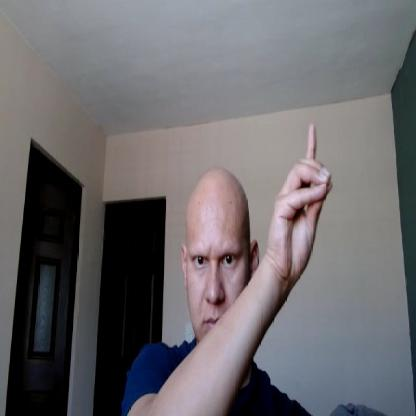D: (268, 122, 333, 284)
